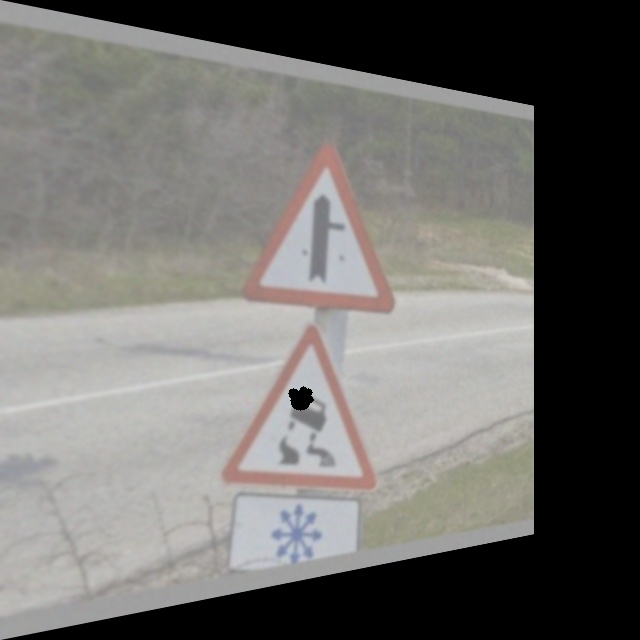Slippery_Road: (224, 322, 386, 497)
